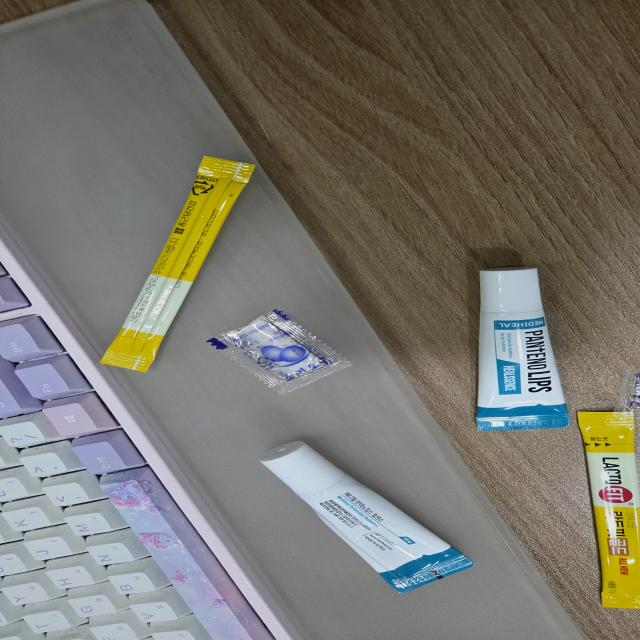lacto: (98, 156, 255, 374), (575, 410, 640, 611)
lib: (246, 443, 481, 596), (471, 259, 572, 438)
salt: (210, 308, 354, 394), (610, 364, 640, 425)
